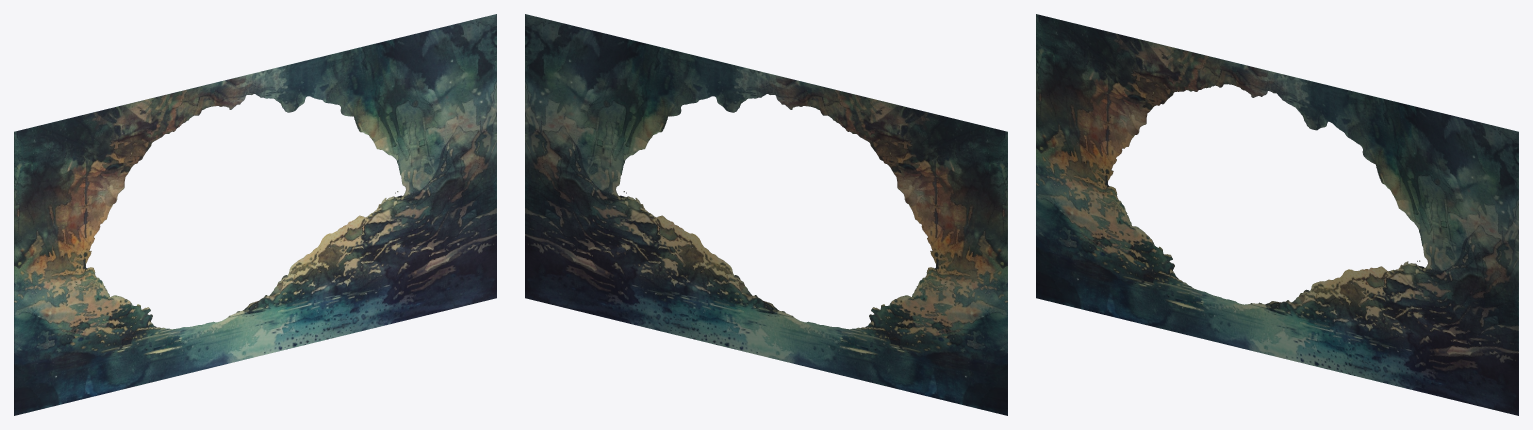
Rendered from cave.fbx.
3 renders of one model, left to right at view 1: azimuth 30°, elevation 25°; view 2: azimuth 150°, elevation 25°; view 3: azimuth 330°, elevation 25°, orthographic.
Parts seen in each view (by area): view 1: pPlane9; view 2: pPlane9; view 3: pPlane9.
Part boxes in pixels (x1,y1,x2,y2): pPlane9: (14, 14, 496, 415); pPlane9: (525, 14, 1007, 415); pPlane9: (1036, 14, 1518, 415).
Size of the model in its own units: 4139 by 2328 by 2.
